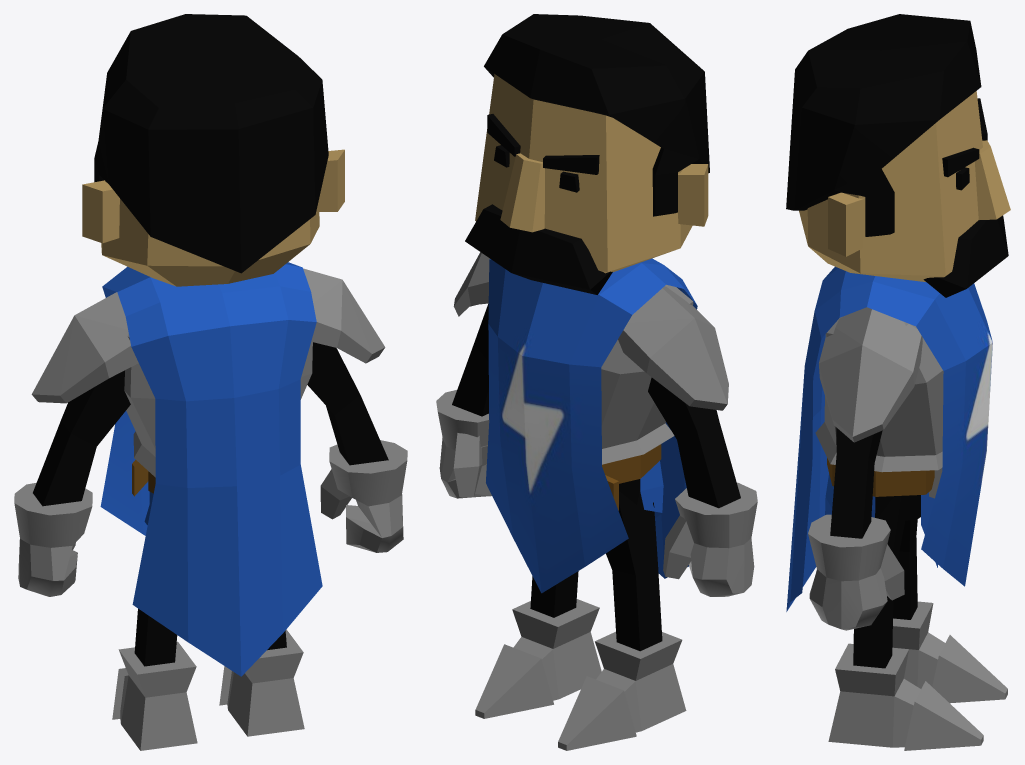
The model's file is army79.glb.
3 views of the same model, side by side, from view 1: azimuth 30°, elevation 25°; view 2: azimuth 150°, elevation 25°; view 3: azimuth 270°, elevation 25° (orthographic).
Visible parts, largest first — view 1: KnightQuestNPC.a_fluboss; view 2: KnightQuestNPC.a_fluboss; view 3: KnightQuestNPC.a_fluboss.
Boxes of the visible parts, x1=… form: KnightQuestNPC.a_fluboss: x1=14, y1=14, x2=407, y2=750; KnightQuestNPC.a_fluboss: x1=436, y1=14, x2=757, y2=750; KnightQuestNPC.a_fluboss: x1=786, y1=14, x2=1010, y2=750.
Bounding box in the file's own units: 0.1129 × 0.2094 × 0.0631.
Materials: 1 (1 with a texture image).
